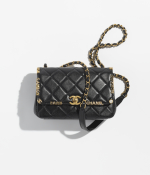channel: (34, 62, 126, 127), (78, 69, 96, 90), (69, 92, 88, 107)
